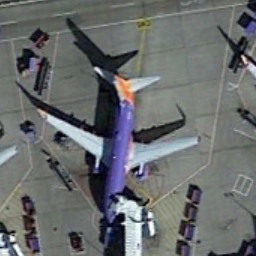Airplane: (22, 59, 205, 230)
